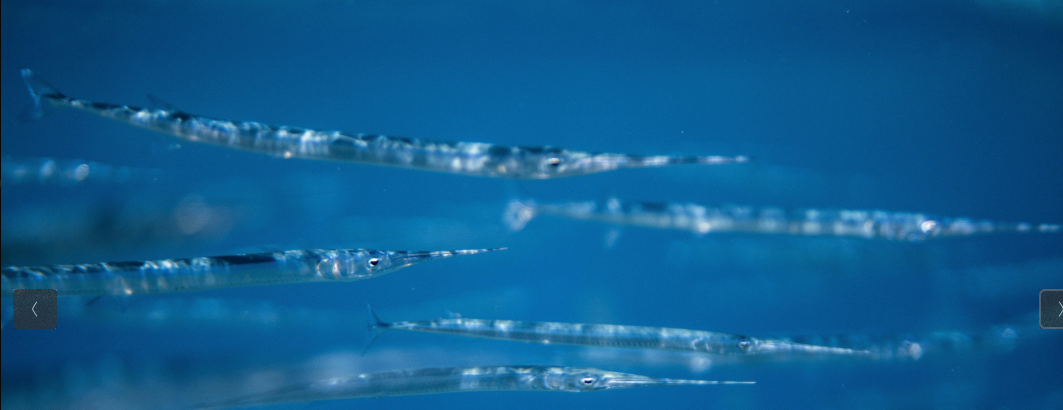fishSmall: (16, 63, 756, 181), (0, 244, 508, 312), (353, 302, 876, 360), (503, 194, 1060, 246), (198, 362, 755, 409)
